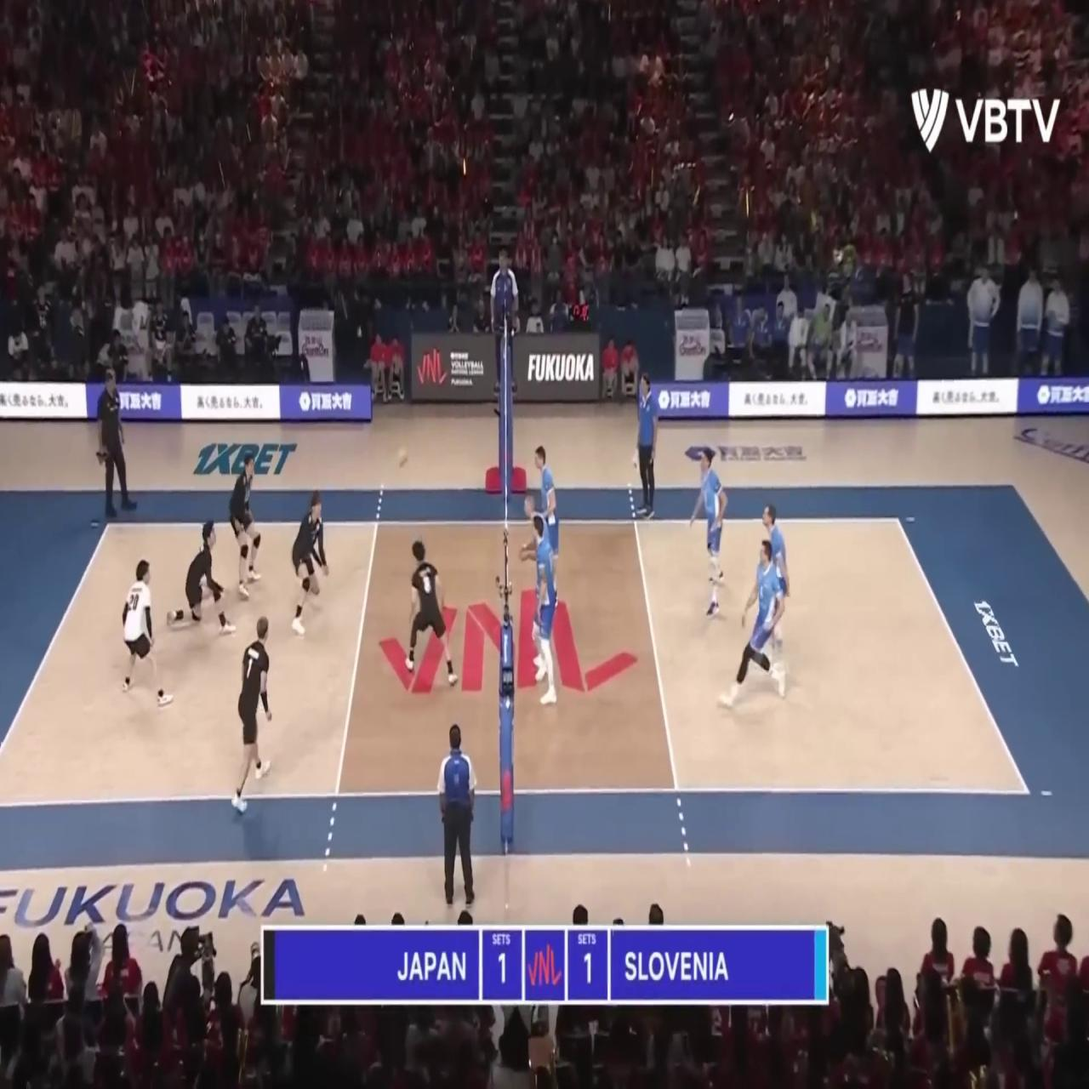ball: (398, 450, 407, 468)
